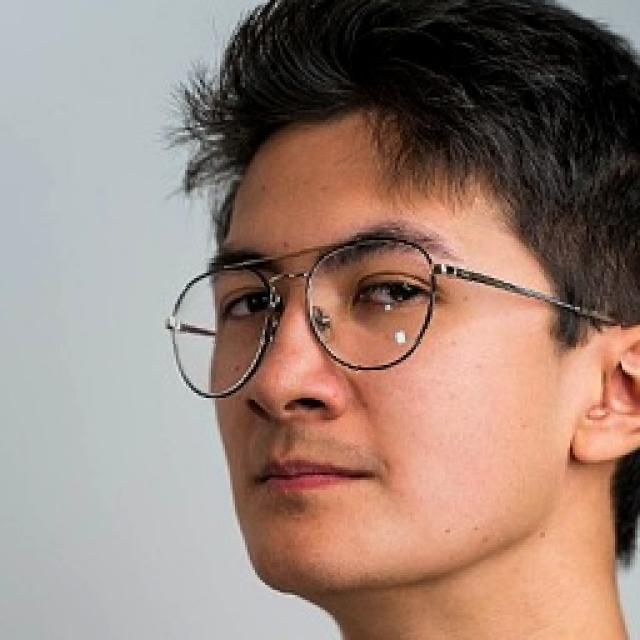glasses: (150, 227, 622, 399)
